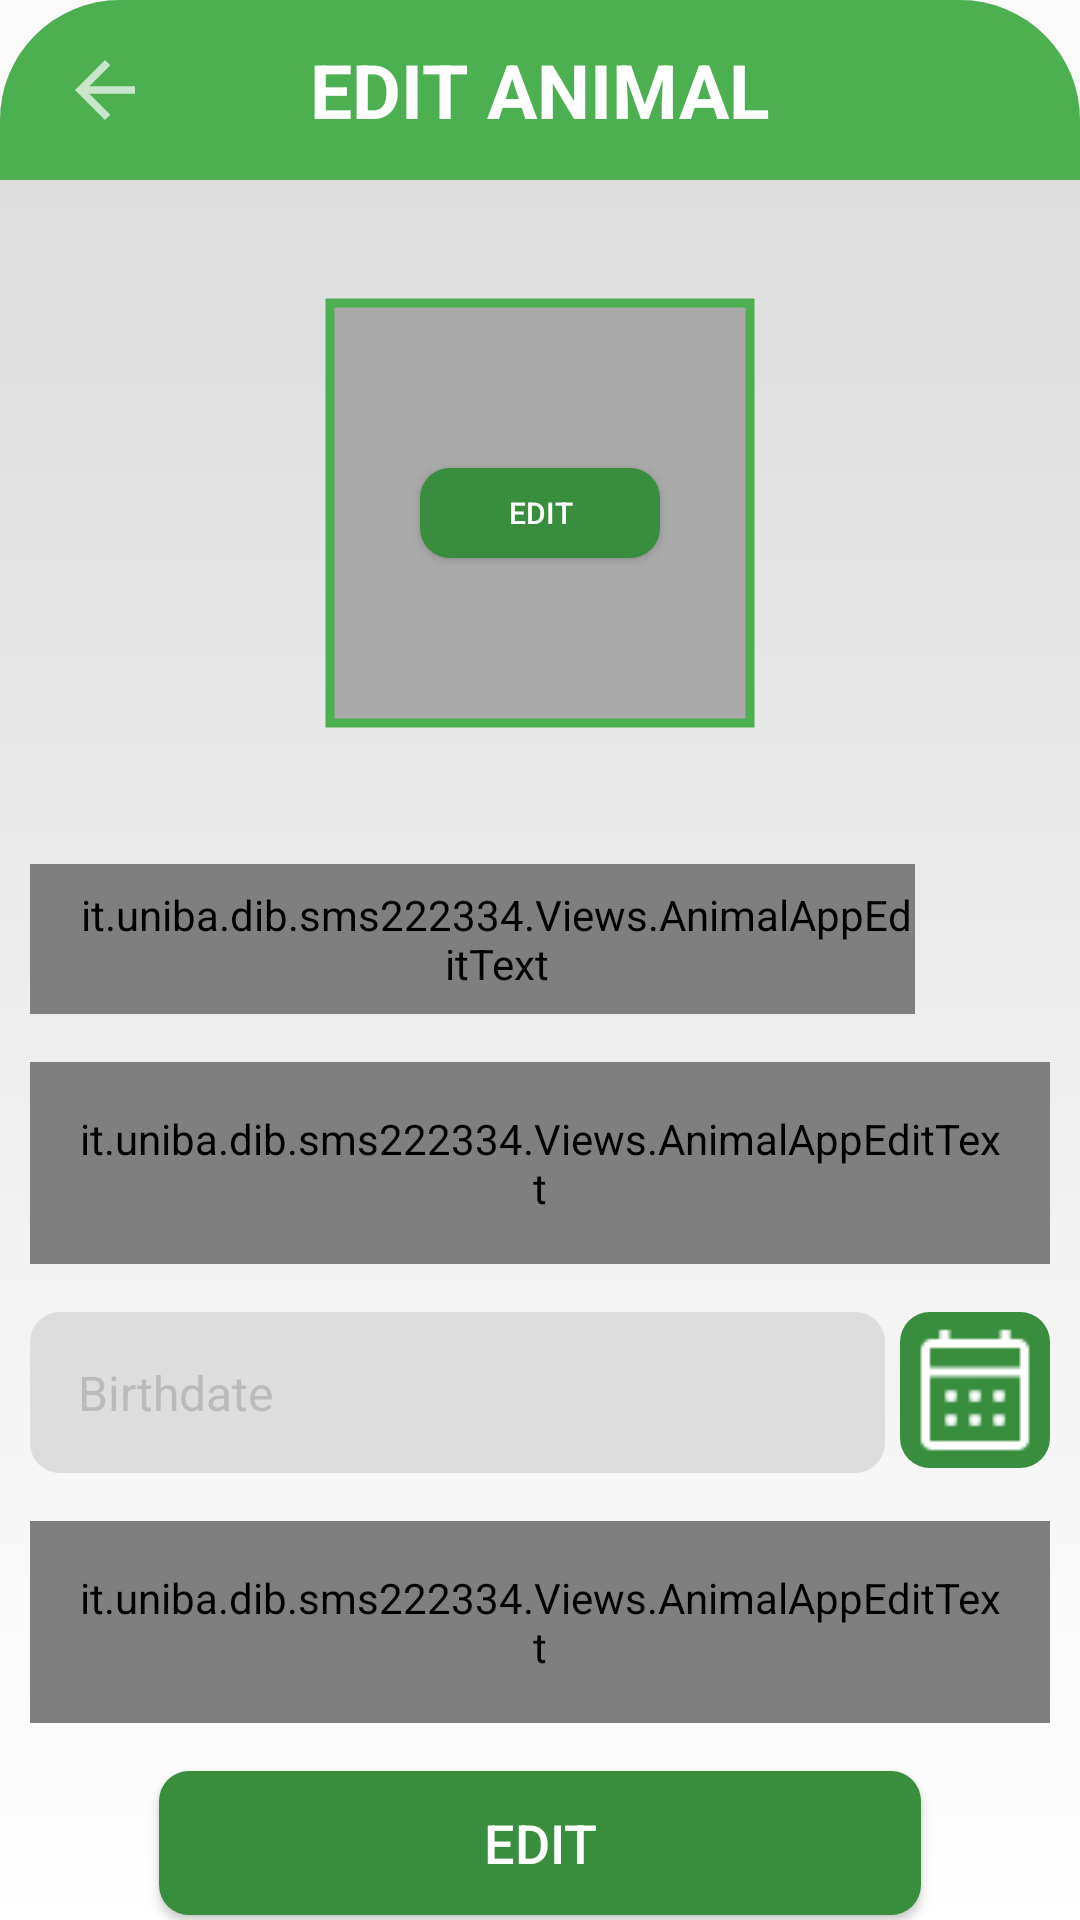

Icons on this 1080w x 1920h Android screen, each with the point to tap as [x,y]:
arrow back: [105,90]
calendar: [975,1390]
